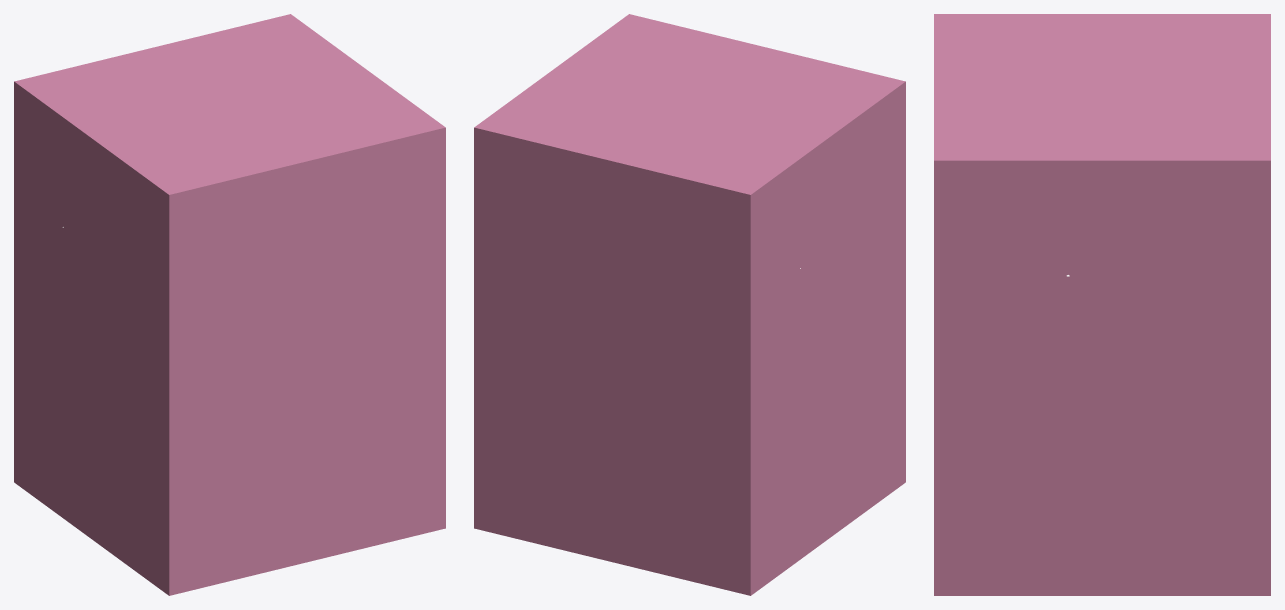
Rendered from tree_palm_d.dae.
3 views of the same model, side by side, from view 1: azimuth 30°, elevation 25°; view 2: azimuth 150°, elevation 25°; view 3: azimuth 270°, elevation 25° (orthographic). The views are drawn at different scales.
Parts seen in each view (by area): view 1: Untitled; view 2: Untitled; view 3: Untitled.
Boxes of the visible parts, left/top/right/bottom form: Untitled: left=14, top=14, right=445, bottom=595; Untitled: left=474, top=14, right=905, bottom=595; Untitled: left=934, top=14, right=1270, bottom=595.
Bounding box in the file's own units: 5.26 × 5.04 × 7.38.
